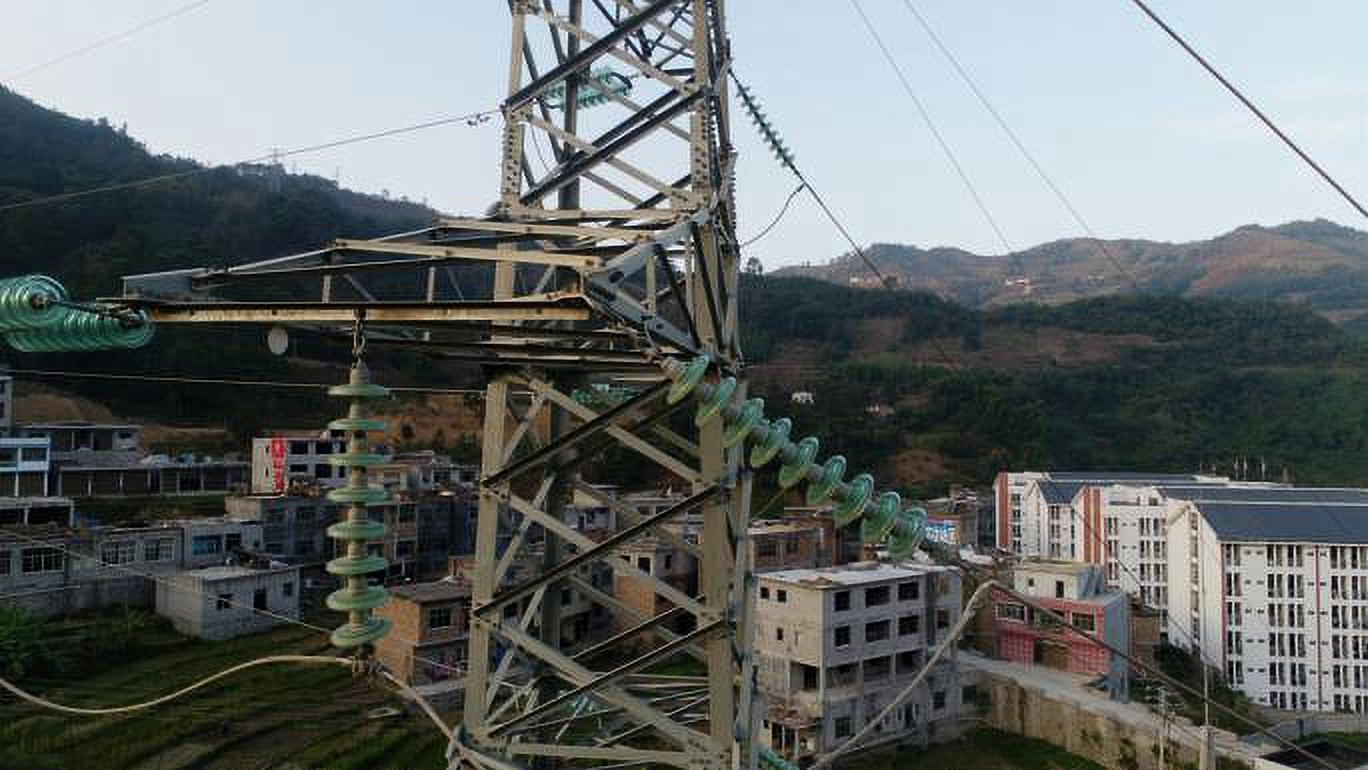insulator: (662, 351, 932, 567), (318, 377, 400, 655), (1, 268, 163, 359), (730, 81, 798, 171), (540, 64, 633, 117)
